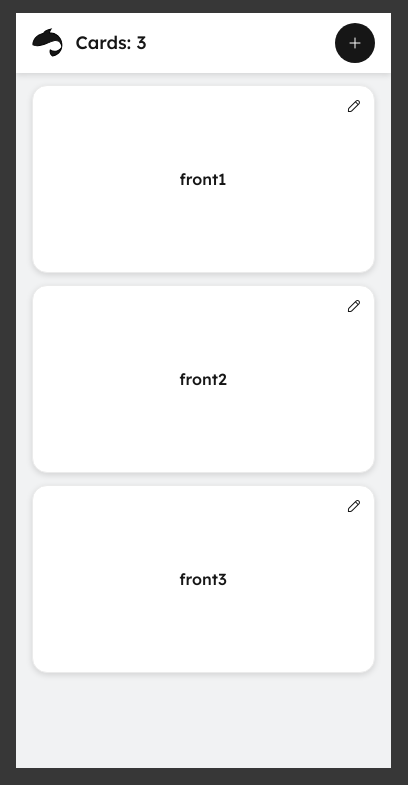
Test: properly handle cancel button edit
This screenshot has width=408, height=785.
What coordinates should you click on to do the following:
click the 2nd button with alt text "Button edit"
I would click on:
 (354, 108)
Its box is [334, 86, 374, 130].
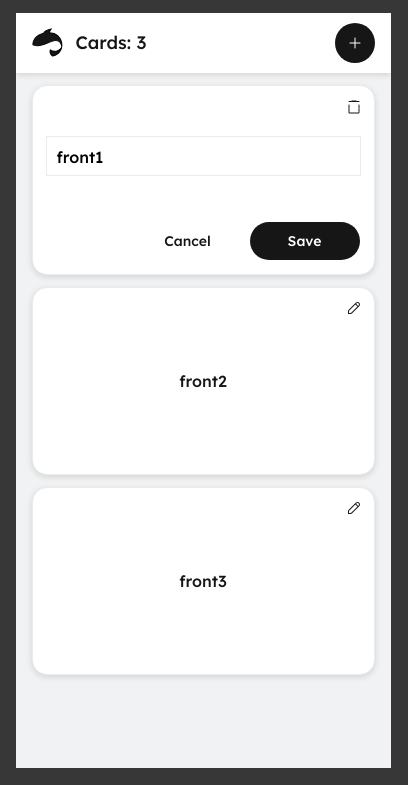
Check: the element with test id "edit-card" is shown, box [32, 85, 374, 275]
What coordinates should you click on to do the following:
click the button "Cancel"
I would click on:
 (188, 241)
Its box is [132, 222, 242, 260].
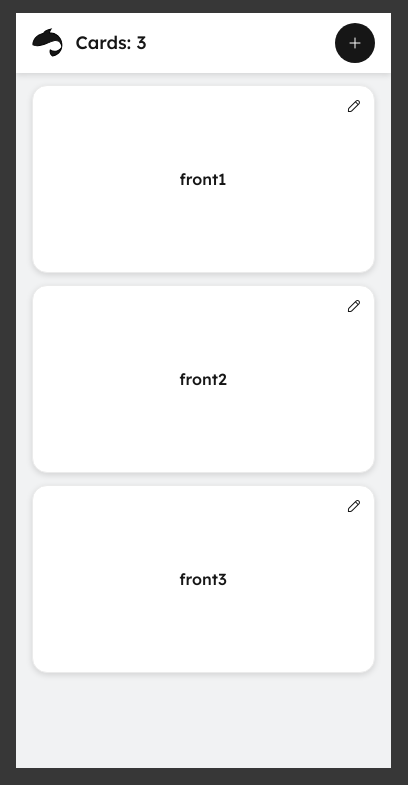
Check: the element with test id "edit-card" is gone
